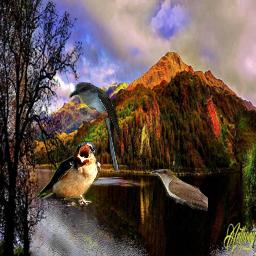Cuckoo: (69, 82, 123, 171), (150, 169, 208, 211)
Swallow: (35, 141, 102, 206)
